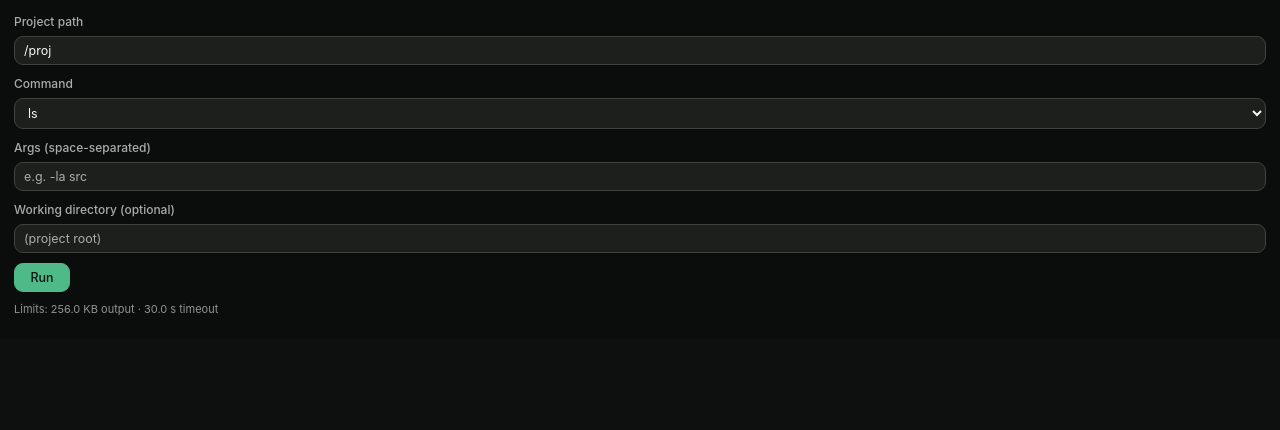
it: TerminalWidget › submits the run, displays exit code + stdout, result has role=status (B2)
Expected: the dropdown labelled "Command" is shown, [14, 98, 1266, 129]
In the field labelled "Args (space-separated)": (640, 176) [14, 162, 1266, 191], type "-la"
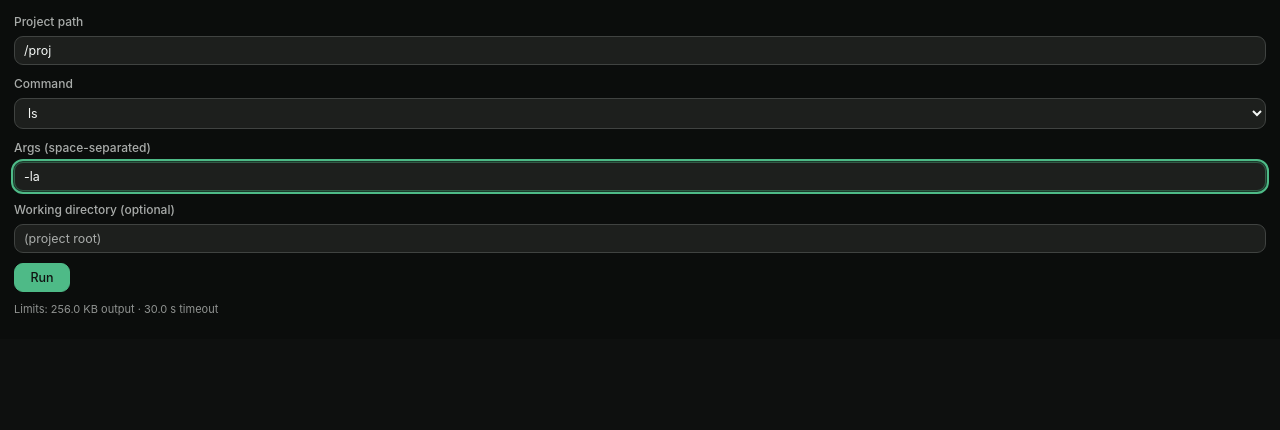
Click the button "Run": (42, 278) [14, 263, 70, 292]
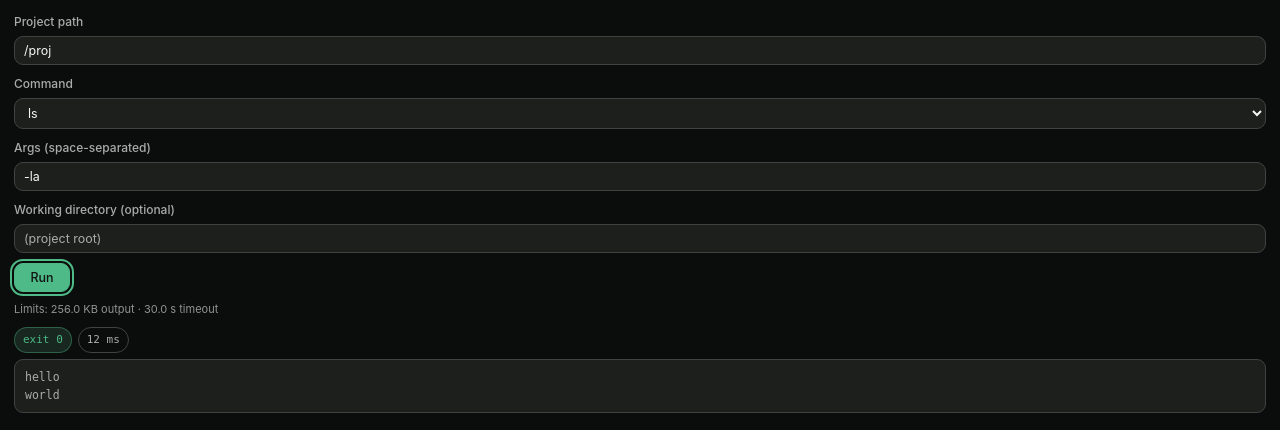
Result: the text "hello world" is shown at [14, 358, 1266, 413]
